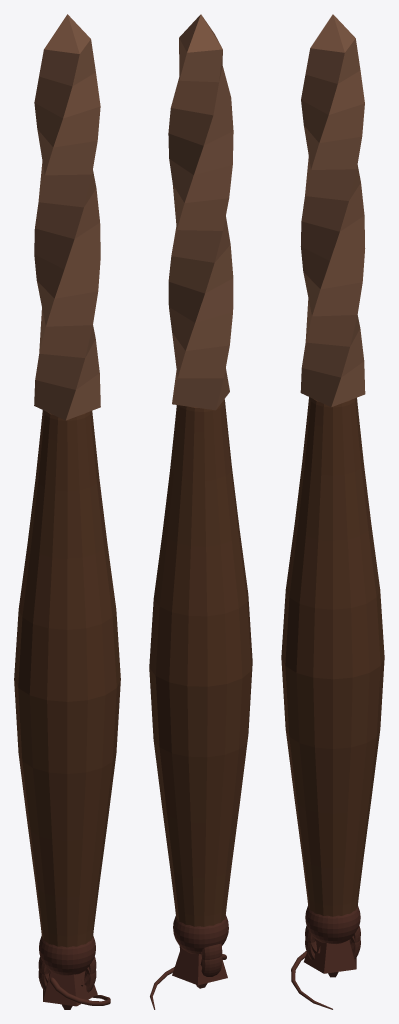
Rendered from Wand 151.glb.
3 renders of one model, left to right at view 1: azimuth 90°, elevation 25°; view 2: azimuth 210°, elevation 25°; view 3: azimuth 270°, elevation 25°, orthographic. The views are drawn at different scales.
Parts seen in each view (by area): view 1: GeneratedWand, Pommel_4, Pommel_9, Pommel_10, Pommel_2; view 2: GeneratedWand, Pommel_4, Pommel_9, Pommel_2; view 3: GeneratedWand, Pommel_4, Pommel_9, Pommel_10, Pommel_2.
Part boxes in pixels (x1,y1,x2,y2): GeneratedWand: [14, 14, 120, 985]; Pommel_4: [39, 936, 95, 975]; Pommel_9: [43, 971, 97, 1006]; Pommel_10: [49, 971, 110, 1005]; Pommel_2: [38, 967, 96, 992]; GeneratedWand: [149, 14, 252, 966]; Pommel_4: [173, 915, 228, 954]; Pommel_9: [172, 947, 227, 985]; Pommel_2: [179, 946, 222, 976]; GeneratedWand: [281, 14, 384, 953]; Pommel_4: [305, 906, 360, 943]; Pommel_9: [304, 939, 356, 973]; Pommel_10: [291, 951, 332, 1009]; Pommel_2: [305, 936, 360, 960].
Bounding box in the file's own units: 0.0507 × 0.5183 × 0.0499.
